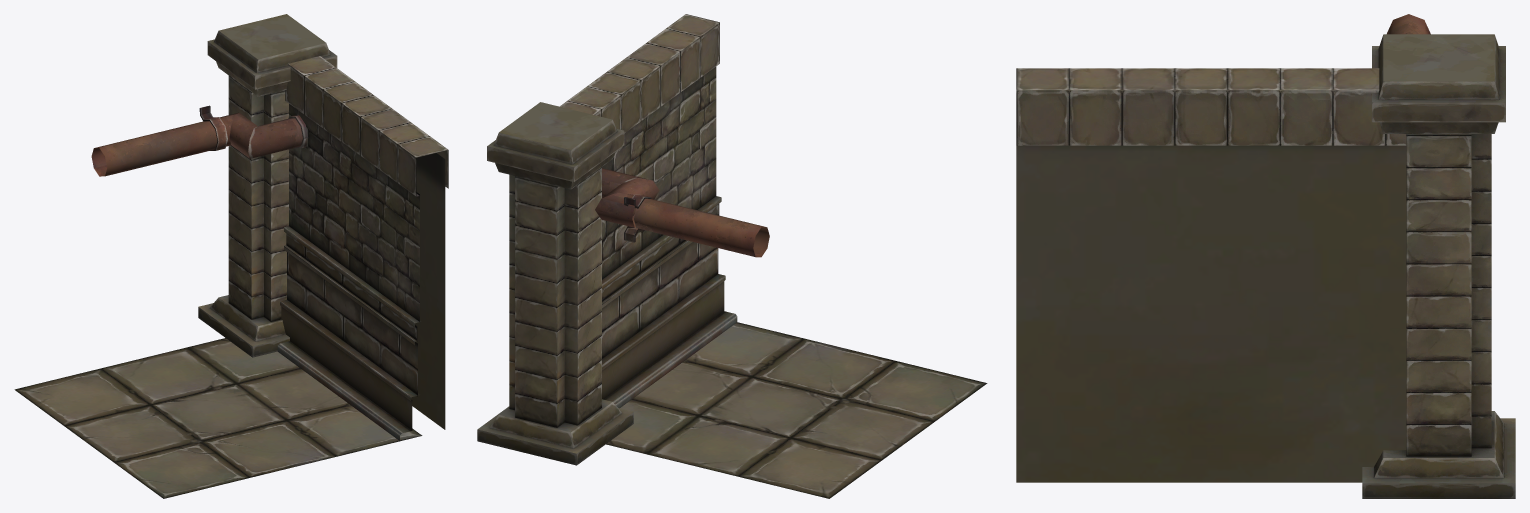
File: mapset_01_dungeon.FBX
3 renders of one model, left to right at view 1: azimuth 30°, elevation 25°; view 2: azimuth 150°, elevation 25°; view 3: azimuth 270°, elevation 25°, orthographic. The views are drawn at different scales.
Parts seen in each view (by area): view 1: Object105, Plane005, Object078, Object017, Object079, Object120, Object121, Object122; view 2: Plane005, Object105, Object078, Object079, Object017, Object121; view 3: Object105, Object078, Object079, Object017.
Part boxes in pixels (x1,y1,x2,y2): Object105: (277,56,448,440); Plane005: (14,338,422,498); Object078: (207,14,337,321); Object017: (91,121,217,176); Object079: (198,295,289,357); Object120: (248,118,302,158); Object121: (220,112,257,158); Object122: (199,105,227,150); Plane005: (606,322,987,498); Object105: (560,14,737,408); Object078: (487,102,624,427); Object079: (477,399,633,465); Object017: (634,198,769,257); Object121: (595,178,659,227); Object105: (1016,68,1406,482); Object078: (1372,34,1505,456); Object079: (1362,411,1515,498); Object017: (1387,14,1430,34).
Bounding box in the file's own units: 118 × 118 × 107.
